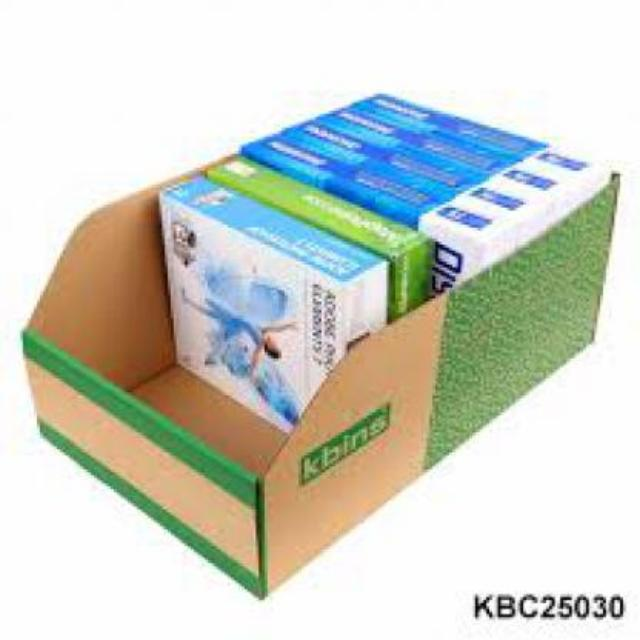cardboard_box: (19, 88, 617, 596)
